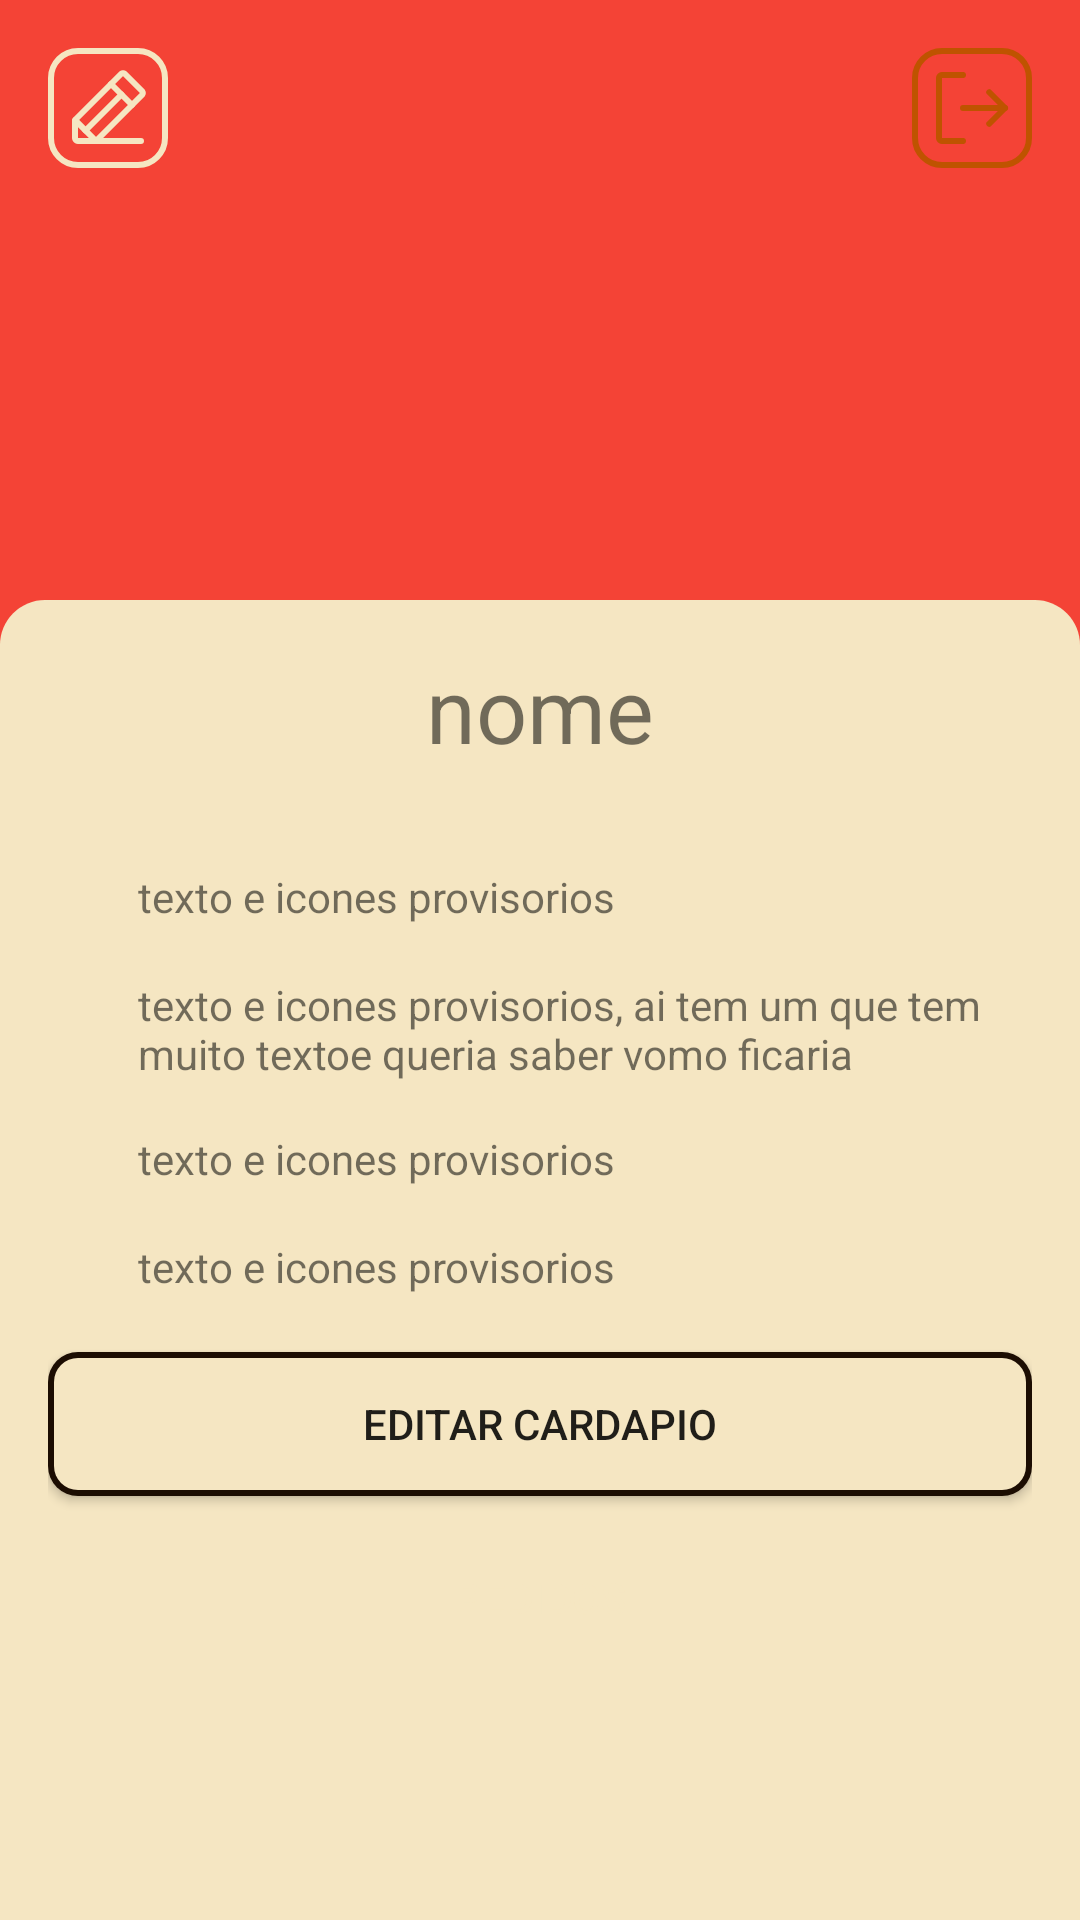

Icon bounding boxes for this 1080w x 1920h phone screenshot, format (x1, y1, x2, y2):
edit: (48, 48, 168, 168)
exit: (912, 48, 1032, 168)
